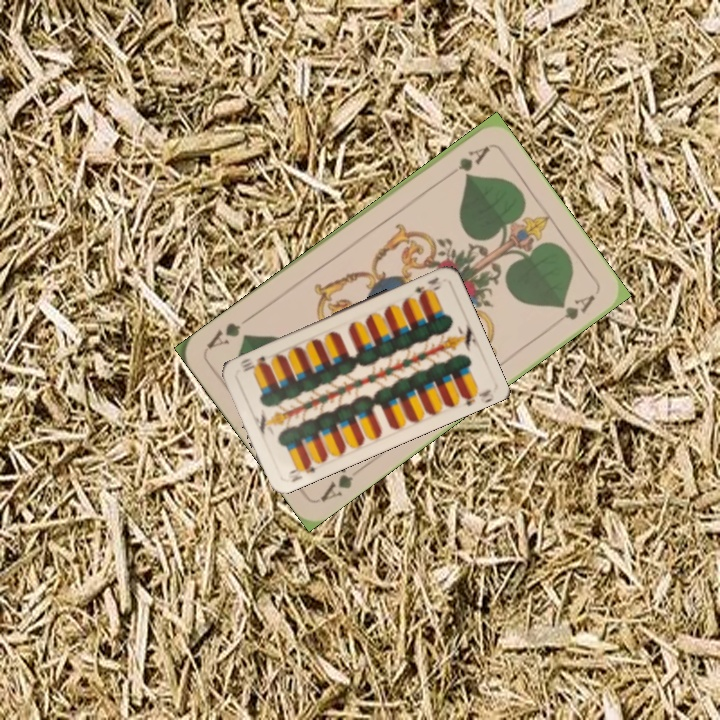E10: (284, 457, 320, 485), (410, 273, 443, 300)
GA: (440, 142, 492, 183), (316, 462, 356, 505)
